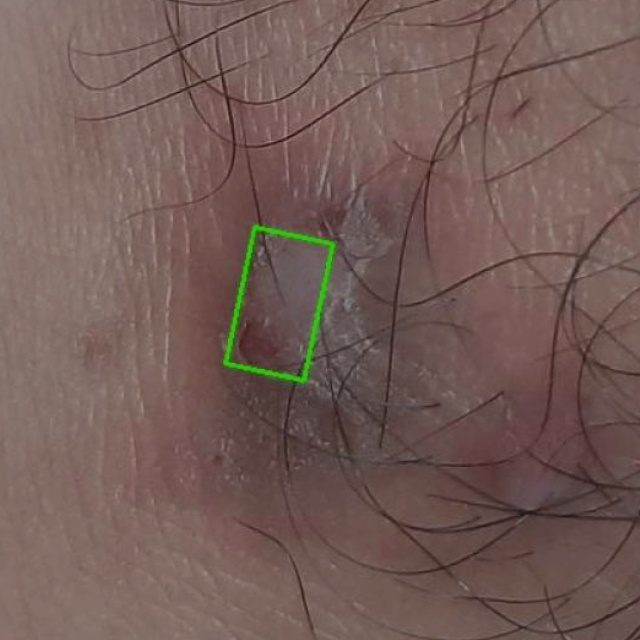Eczema: (226, 227, 333, 380)
